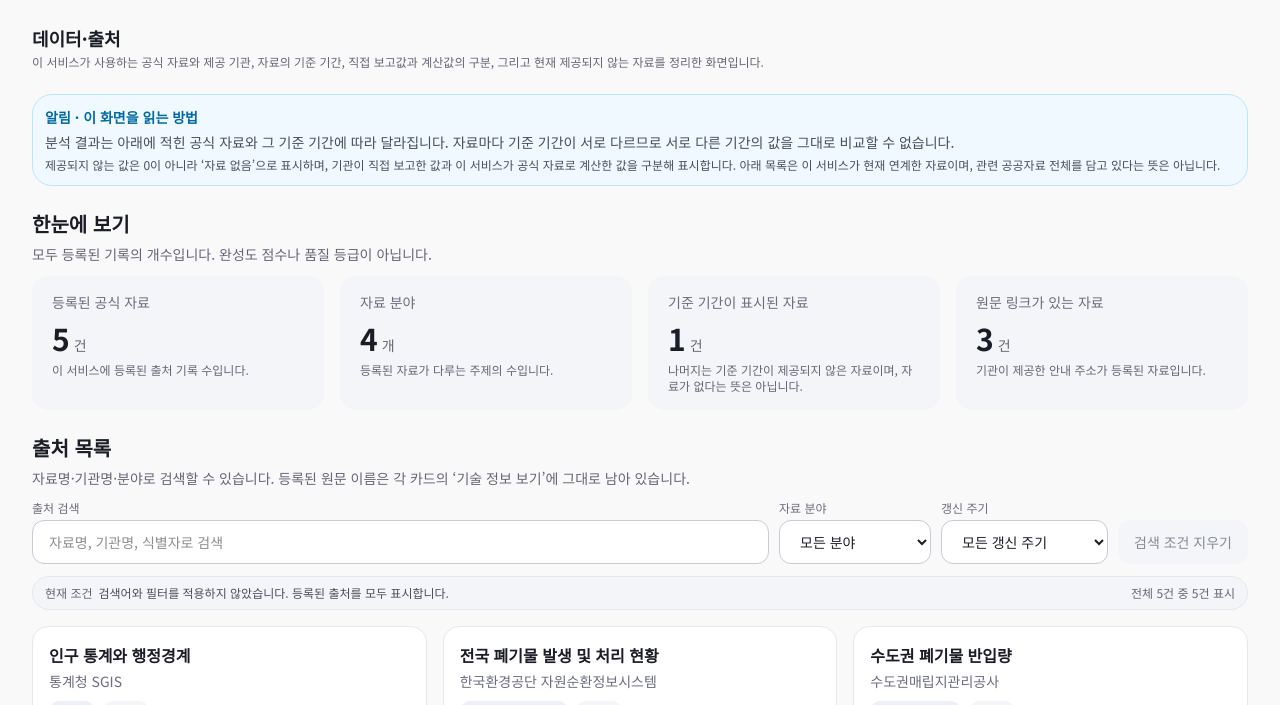
Scenario: source search › clears via the clear control and restores the whole catalog
Type "기상청" into the search field with test id "transparency-search". click: (400, 542)
box: top-left (32, 520), bottom-right (769, 564)
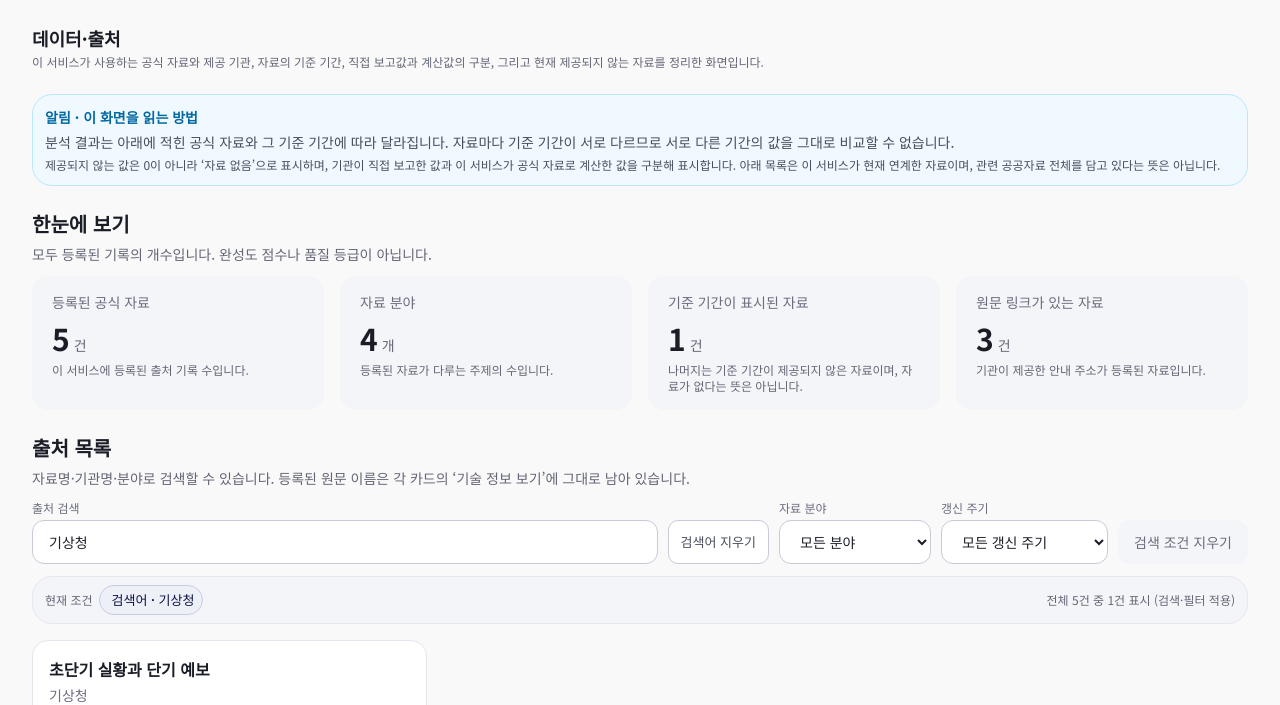
Click the button with test id "transparency-search-clear". click: (718, 542)
box: top-left (668, 520), bottom-right (769, 564)
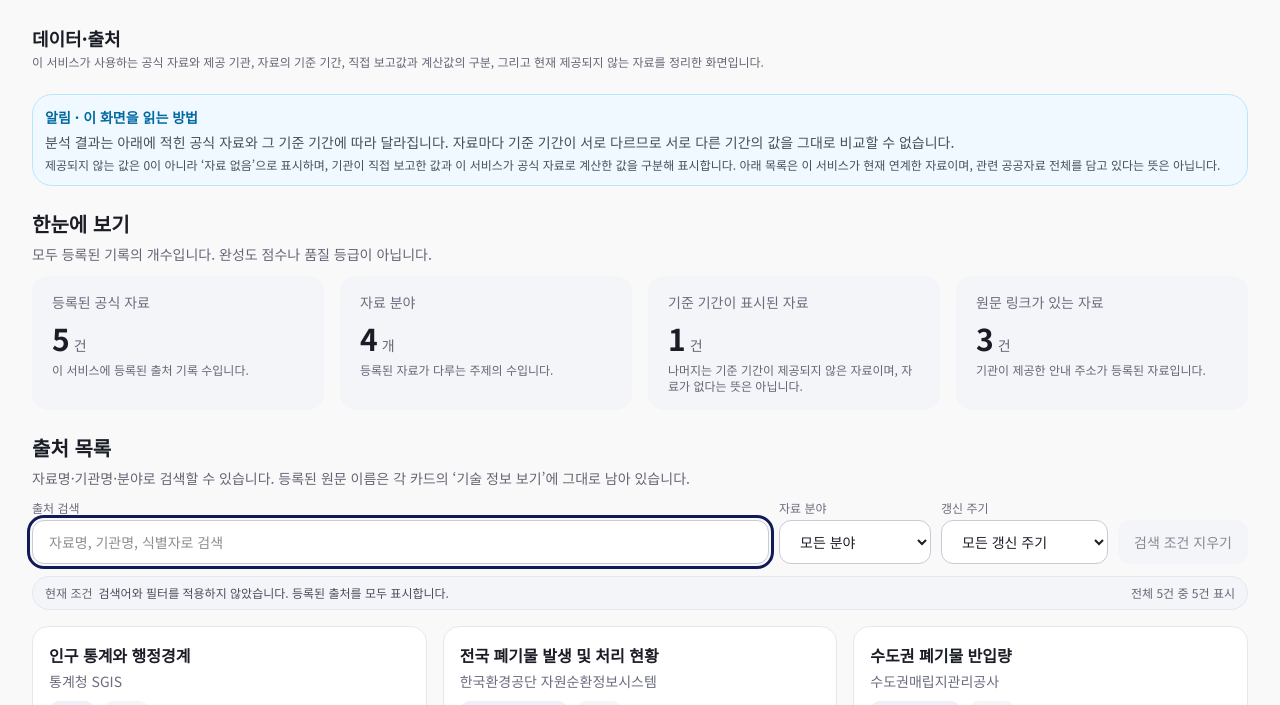
expect the search field with test id "transparency-search" is empty: met, box top-left (32, 520), bottom-right (769, 564)
